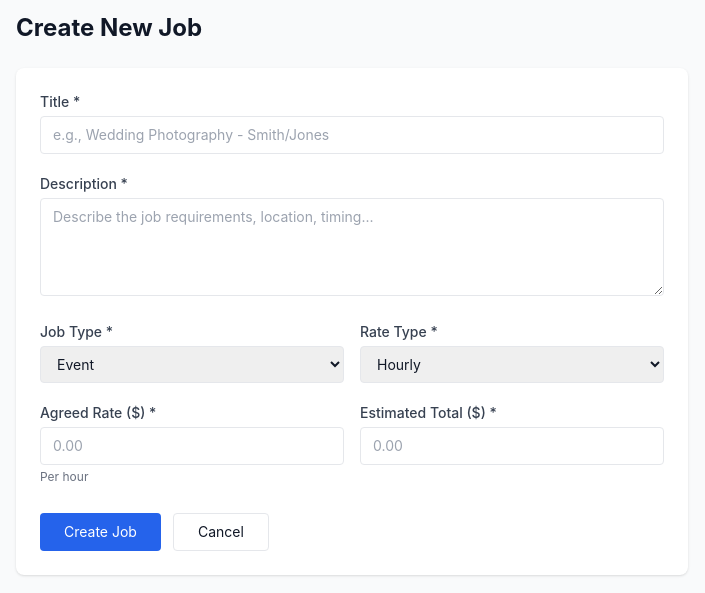
JobCreatePage › shows rate type hint text based on selection
The width and height of the screenshot is (705, 593).
Expected: the text "Per hour" is shown, [40,469,88,484]
Select "Piece Rate" in the dropdown below "Rate Type *". click: (512, 364)
box: [360,346,664,383]
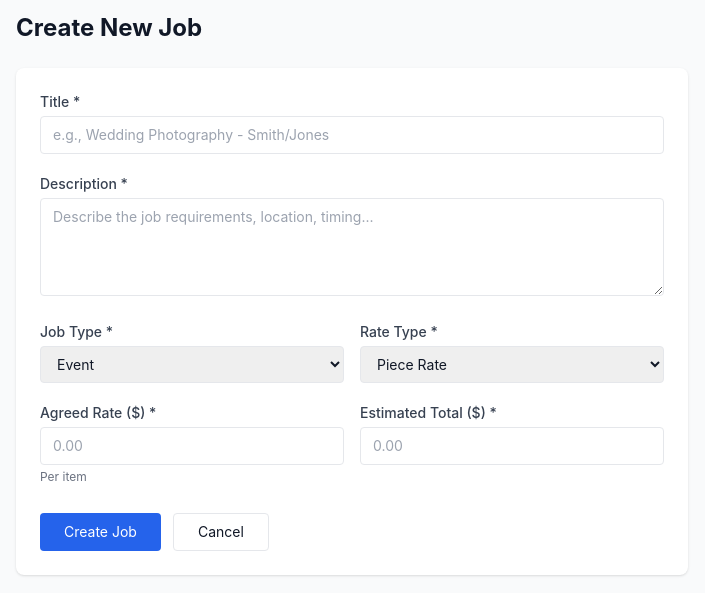
Result: the text "Per item" is shown at [40,469,87,484]
